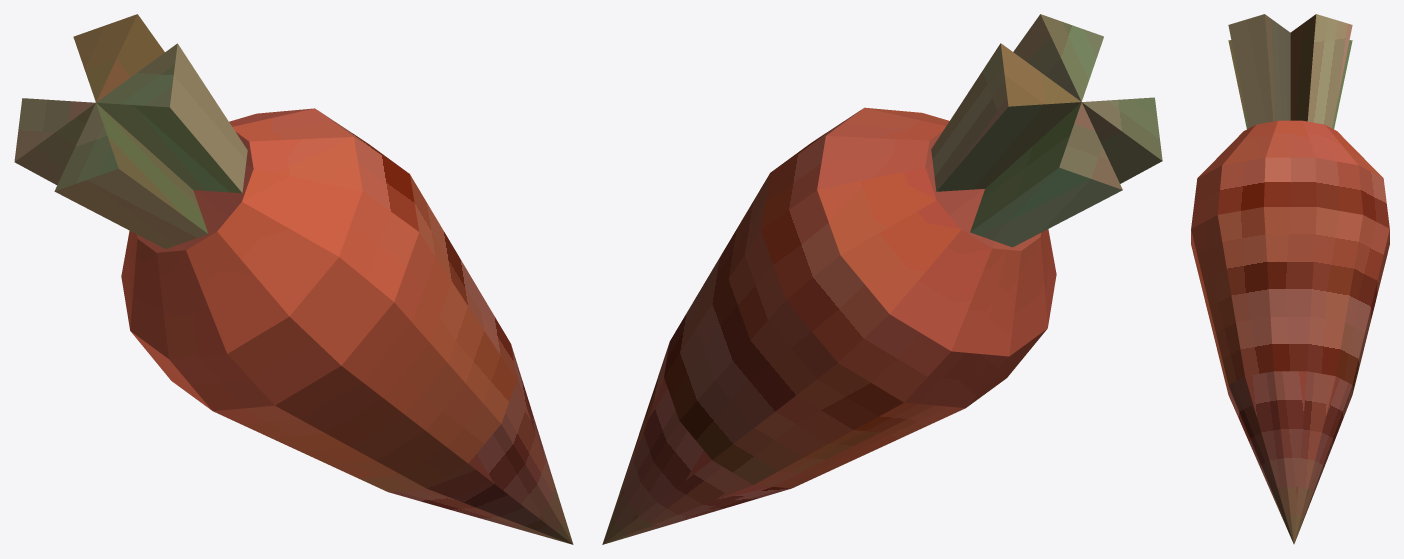
Rendered from roasted_carrot-optimized.glb.
3 renders of one model, left to right at view 1: azimuth 30°, elevation 25°; view 2: azimuth 150°, elevation 25°; view 3: azimuth 270°, elevation 25°, orthographic. The views are drawn at different scales.
Parts seen in each view (by area): view 1: cylinder; view 2: cylinder; view 3: cylinder.
Part boxes in pixels (bbox=[...]): cylinder: bbox=[14, 14, 573, 544]; cylinder: bbox=[602, 14, 1162, 544]; cylinder: bbox=[1191, 14, 1389, 544].
Size of the model in its own units: 0.6585 by 0.7206 by 0.325.
Materials: 1 (1 with a texture image).
